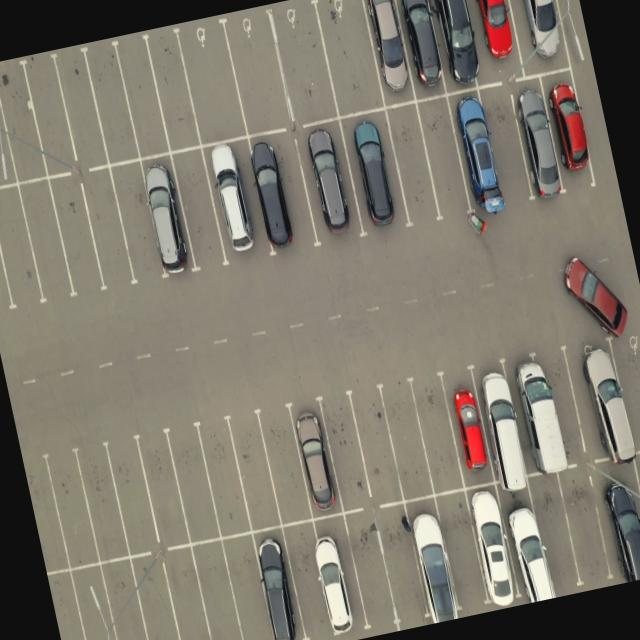car: (244, 130, 317, 258), (564, 334, 634, 464), (504, 349, 573, 479), (202, 140, 272, 266), (340, 106, 410, 230), (294, 122, 363, 246), (445, 88, 511, 217), (472, 356, 534, 482), (462, 483, 522, 608), (437, 366, 497, 488), (140, 156, 199, 280), (308, 514, 367, 638), (498, 476, 556, 602), (286, 396, 346, 516), (403, 495, 459, 621), (509, 78, 567, 198), (359, 0, 418, 108), (250, 526, 305, 640), (539, 70, 593, 186), (590, 465, 640, 583), (396, 0, 452, 100), (424, 0, 484, 91), (501, 0, 570, 72), (463, 0, 525, 79)
free: (175, 20, 250, 146), (224, 13, 297, 136), (268, 2, 338, 127), (311, 0, 384, 118), (114, 32, 176, 160), (80, 39, 142, 166), (143, 27, 205, 154), (16, 180, 78, 306), (53, 44, 114, 170), (44, 173, 104, 300), (168, 150, 229, 274), (416, 96, 476, 222), (100, 438, 162, 559), (163, 422, 224, 544), (106, 162, 166, 286), (18, 52, 78, 176), (374, 502, 434, 626), (433, 489, 492, 615), (133, 431, 194, 552), (256, 402, 317, 523), (342, 508, 402, 631), (73, 444, 134, 564), (196, 418, 256, 540), (78, 170, 138, 292), (40, 451, 100, 572), (408, 372, 467, 493), (223, 410, 282, 530), (382, 100, 439, 224), (347, 384, 406, 503), (558, 466, 616, 586), (526, 470, 582, 594), (376, 380, 434, 499), (314, 392, 372, 511), (278, 520, 335, 640), (481, 82, 536, 205), (221, 532, 279, 640), (0, 59, 50, 184), (21, 449, 70, 571), (187, 540, 246, 640), (0, 186, 45, 314), (159, 545, 218, 640), (92, 558, 158, 640), (126, 552, 187, 640), (64, 564, 124, 640), (46, 569, 96, 640), (611, 329, 640, 450), (0, 193, 14, 318), (0, 67, 13, 188)
